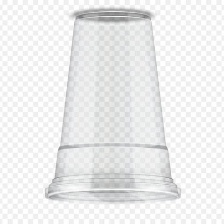glass: (35, 4, 190, 211)
